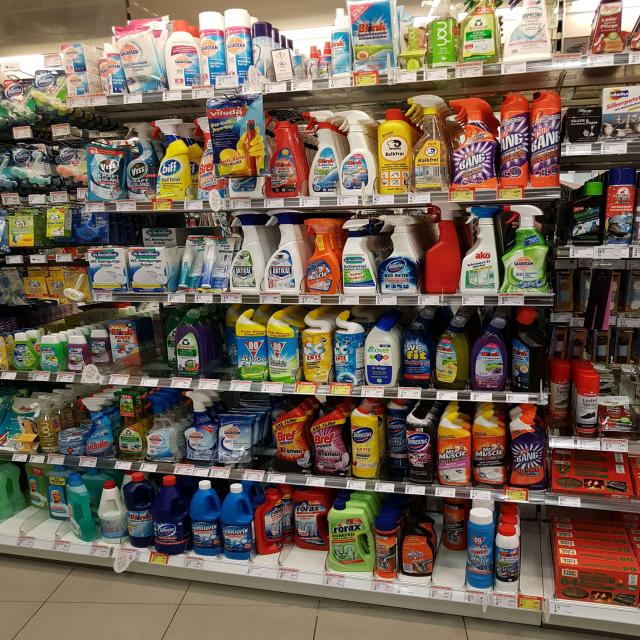unorganised: (553, 260, 640, 313), (552, 315, 637, 362), (423, 200, 463, 295), (116, 28, 163, 93), (508, 309, 544, 393), (289, 484, 329, 559), (22, 462, 66, 524), (83, 143, 129, 202), (254, 488, 286, 558), (140, 314, 176, 373), (380, 400, 407, 476), (65, 476, 95, 543), (293, 38, 333, 83), (249, 19, 274, 85), (443, 495, 468, 557), (549, 363, 572, 428), (217, 309, 236, 374), (137, 224, 179, 248), (398, 46, 426, 74)
